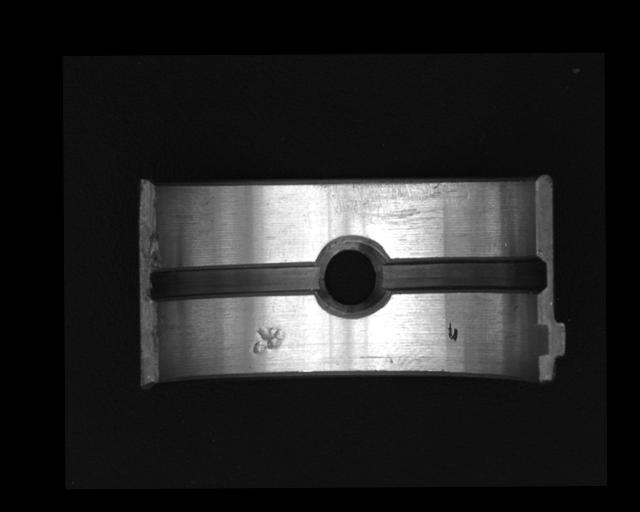blot: (448, 321, 459, 341)
bruise: (252, 326, 285, 356)
gap: (147, 260, 321, 305), (379, 256, 547, 296)
hole: (313, 235, 389, 319)
scratch: (313, 182, 473, 230)
